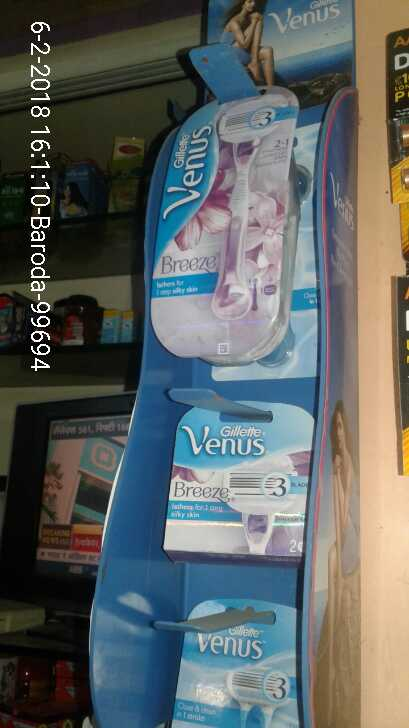venus: (148, 83, 299, 368), (153, 400, 313, 565), (161, 596, 307, 728)
